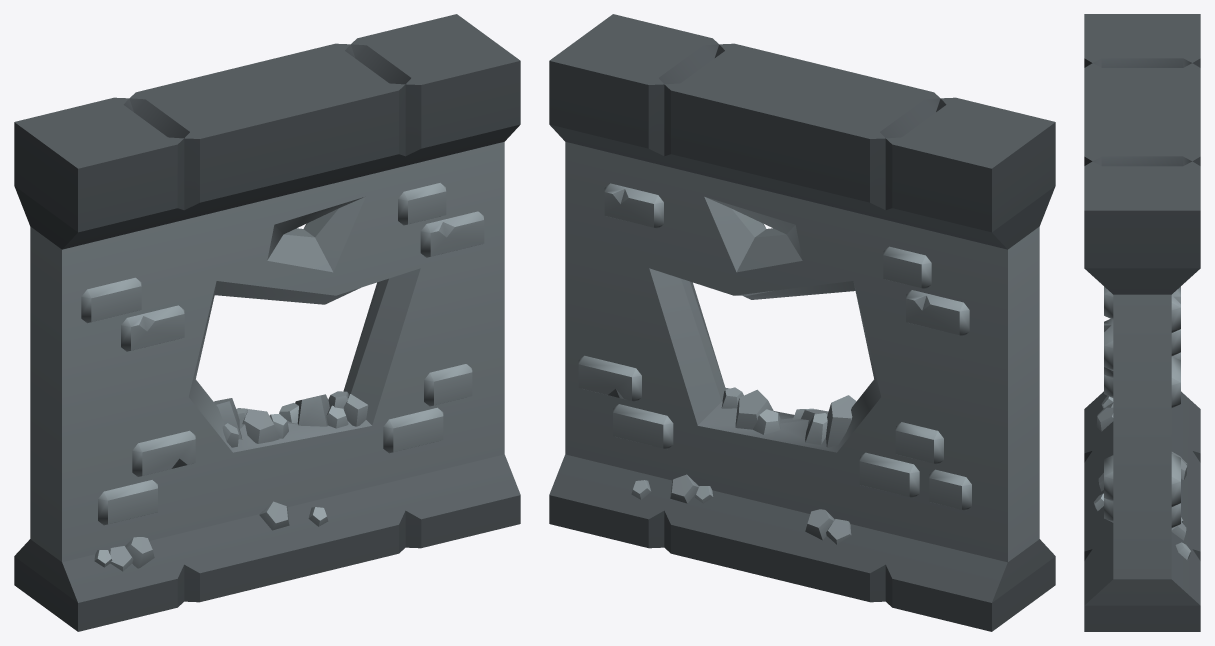
File: wall_broken.glb
3 views of the same model, side by side, from view 1: azimuth 30°, elevation 25°; view 2: azimuth 150°, elevation 25°; view 3: azimuth 270°, elevation 25° (orthographic). The views are drawn at different scales.
Parts seen in each view (by area): view 1: wall_broken; view 2: wall_broken; view 3: wall_broken.
Boxes of the visible parts, x1,y1,x2,y2 form: wall_broken: [14, 14, 520, 631]; wall_broken: [549, 14, 1055, 631]; wall_broken: [1084, 14, 1200, 631].
Size of the model in its own units: 4 by 4 by 1.
Materials: 1 (1 with a texture image).
